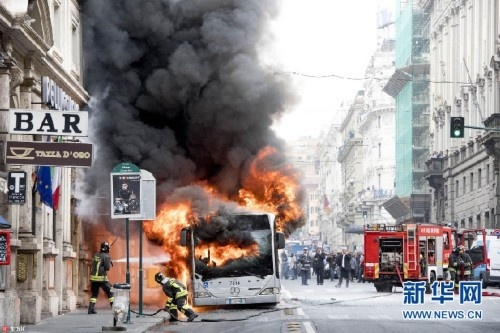fire: (144, 151, 301, 315)
